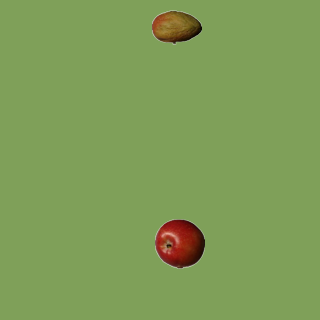Apple Braeburn: (154, 218, 204, 268)
Papaya: (151, 2, 201, 52)
